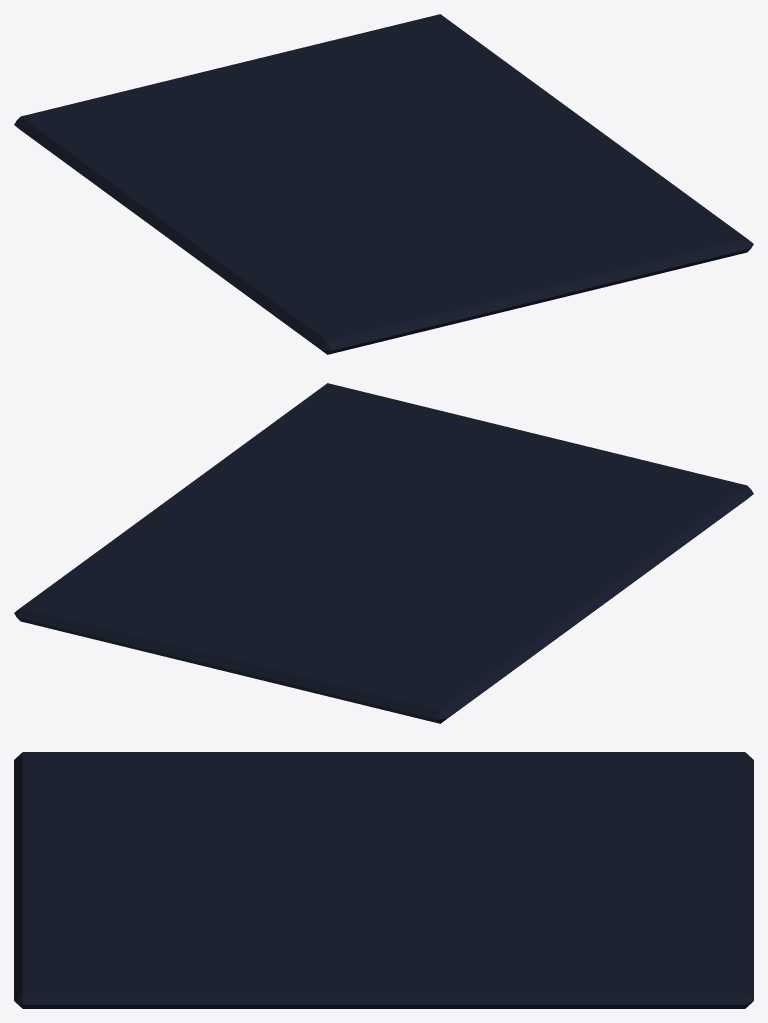
The model's file is mouse 1.fbx.
The picture shows the model from 3 angles, top to bottom: view 1: azimuth 30°, elevation 25°; view 2: azimuth 150°, elevation 25°; view 3: azimuth 270°, elevation 25°; orthographic projection. The views are drawn at different scales.
Visible parts, largest first — view 1: MousePad; view 2: MousePad; view 3: MousePad.
Part boxes in pixels (x1,y1,x2,y2): MousePad: (14,14,753,354); MousePad: (14,383,753,723); MousePad: (14,752,753,1008).
Size of the model in its own units: 79.12 by 2.36 by 99.6.
